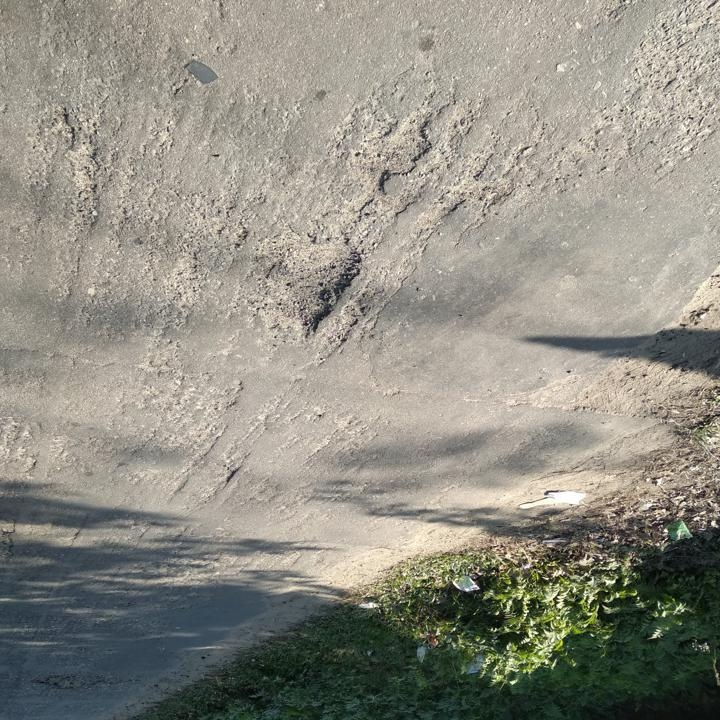pothole: (271, 237, 367, 341), (352, 114, 438, 190)
